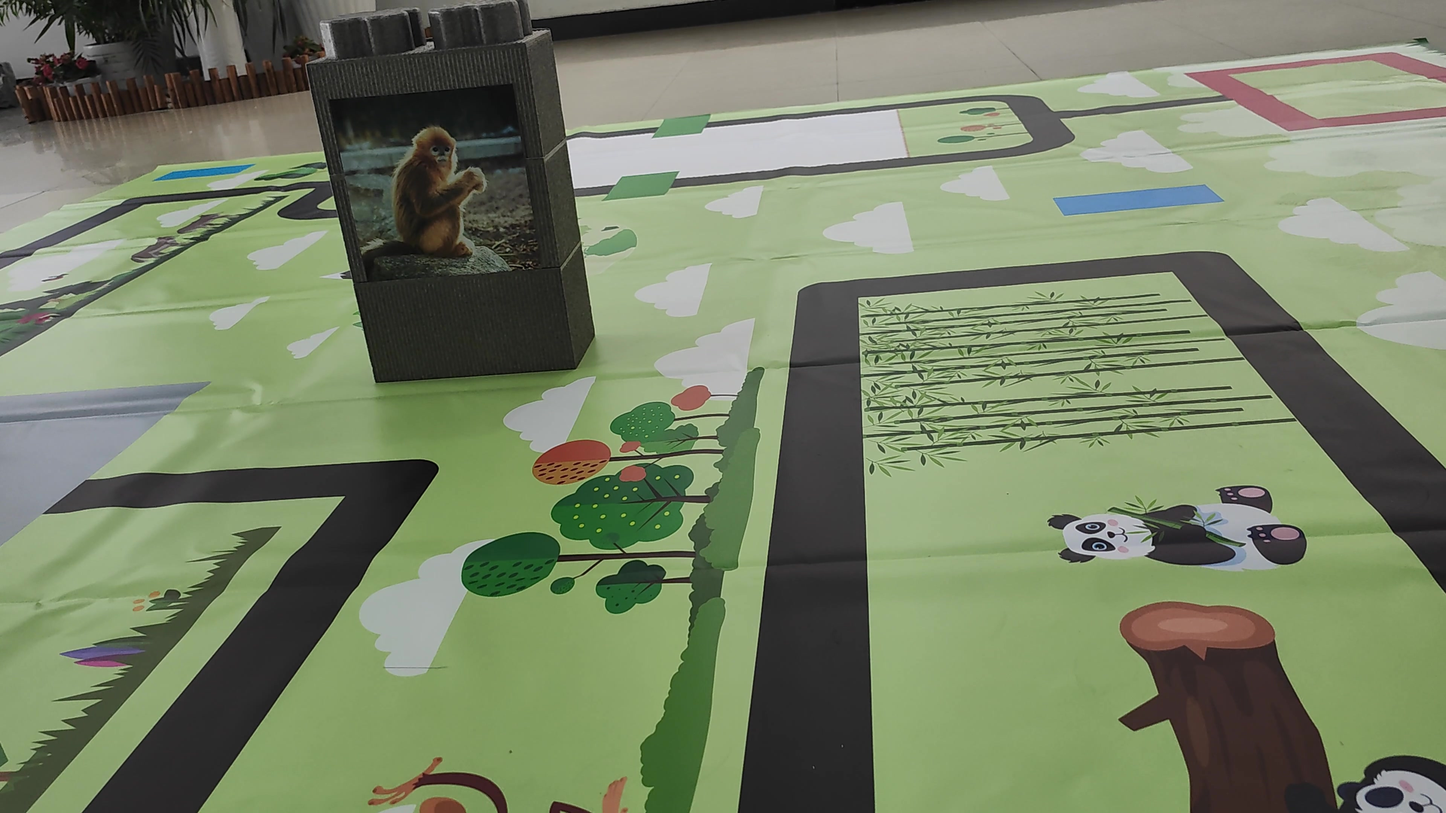monkey: (352, 102, 509, 280)
